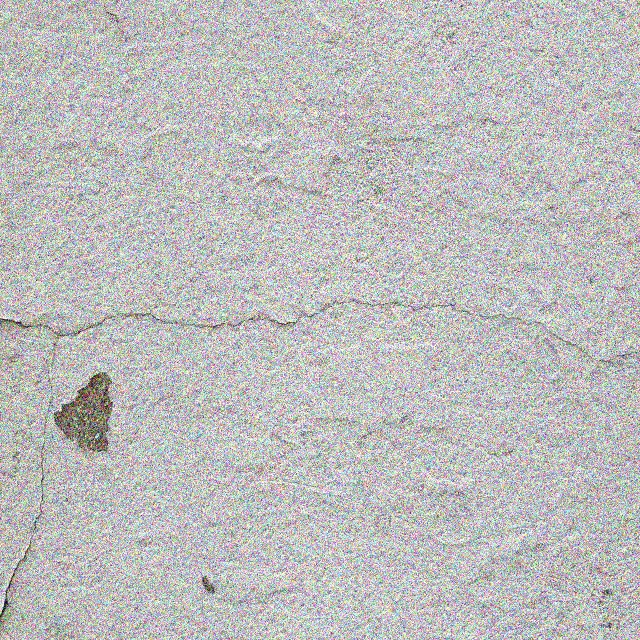SurfaceCrack: (1, 316, 77, 640)
